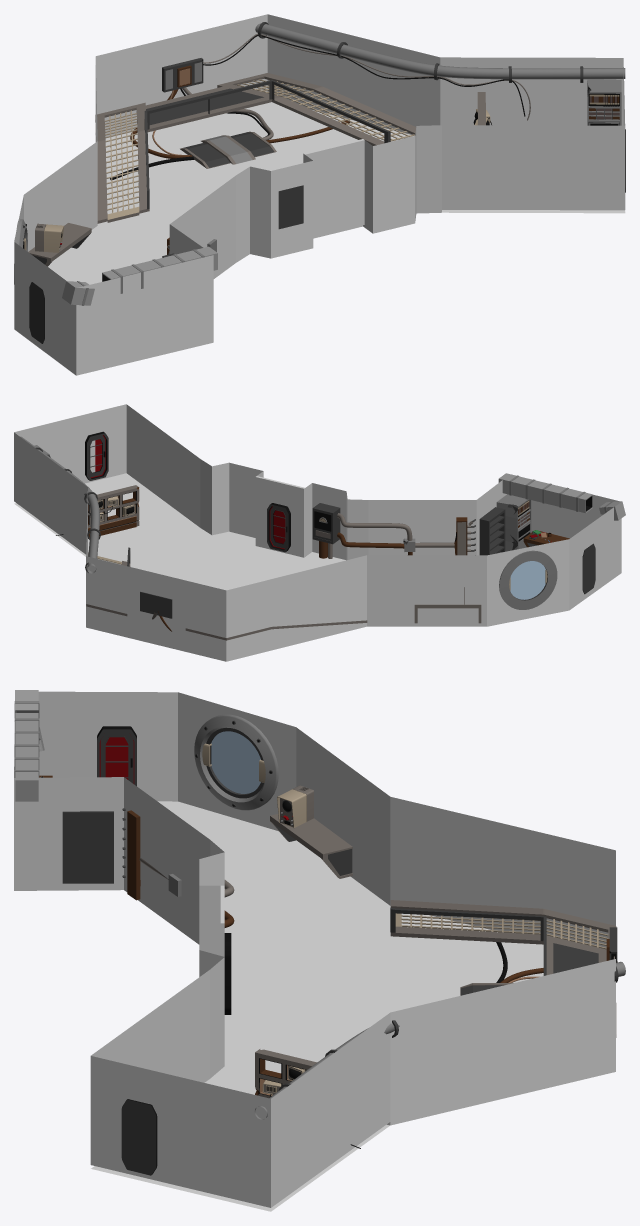
Rendered from Room.glb.
3 renders of one model, top to bottom at view 1: azimuth 30°, elevation 25°; view 2: azimuth 150°, elevation 25°; view 3: azimuth 270°, elevation 25°, orthographic. The views are drawn at different scales.
Visible parts, largest first — view 1: Room_blockout.002, Cube.070, NurbsPath.044, Cube.177, Cube.154, Cube.152, Cube.187, Cube.190, Cube.170, Cube.165, Cube.160, Osciloskop (+2 smaller); view 2: Room_blockout.002, Window, Cube.177, hneda, Cube.150, Cube.215, Cube.148, Cube.187, Cube.166, Cube.070, NurbsPath.044, Cube.170 (+5 smaller); view 3: Room_blockout.002, Cube.070, Window, Cube.215, Cube.177, Cube.166, Cube.190, Cube.165, hneda, Osciloskop, Cube.189.
Part boxes in pixels (<box>): Room_blockout.002: <box>14,14,625,375</box>; Cube.070: <box>95,73,416,223</box>; NurbsPath.044: <box>255,23,625,79</box>; Cube.177: <box>62,246,217,305</box>; Cube.154: <box>587,79,621,125</box>; Cube.152: <box>180,131,276,168</box>; Cube.187: <box>278,185,303,229</box>; Cube.190: <box>28,223,91,266</box>; Cube.170: <box>162,58,203,92</box>; Cube.165: <box>29,282,44,343</box>; Cube.160: <box>201,135,255,164</box>; Osciloskop: <box>35,223,63,252</box>; Room_blockout.002: <box>14,404,621,661</box>; Window: <box>499,550,557,609</box>; Cube.177: <box>498,473,625,520</box>; hneda: <box>88,485,139,537</box>; Cube.150: <box>496,494,531,551</box>; Cube.215: <box>479,507,505,555</box>; Cube.148: <box>267,503,290,552</box>; Cube.187: <box>312,503,340,544</box>; Cube.166: <box>85,431,108,480</box>; Cube.070: <box>86,547,367,640</box>; NurbsPath.044: <box>20,436,99,573</box>; Cube.170: <box>140,591,172,618</box>; Room_blockout.002: <box>14,691,615,1211</box>; Cube.070: <box>390,900,616,1037</box>; Window: <box>194,714,278,810</box>; Cube.215: <box>62,811,113,883</box>; Cube.177: <box>14,690,44,801</box>; Cube.166: <box>121,1099,157,1175</box>; Cube.190: <box>270,814,352,878</box>; Cube.165: <box>97,726,136,786</box>; hneda: <box>255,1049,316,1098</box>; Osciloskop: <box>277,785,313,827</box>; Cube.189: <box>127,810,140,900</box>.
Bounding box in the file's own units: 32.9 × 5.22 × 20.72.
